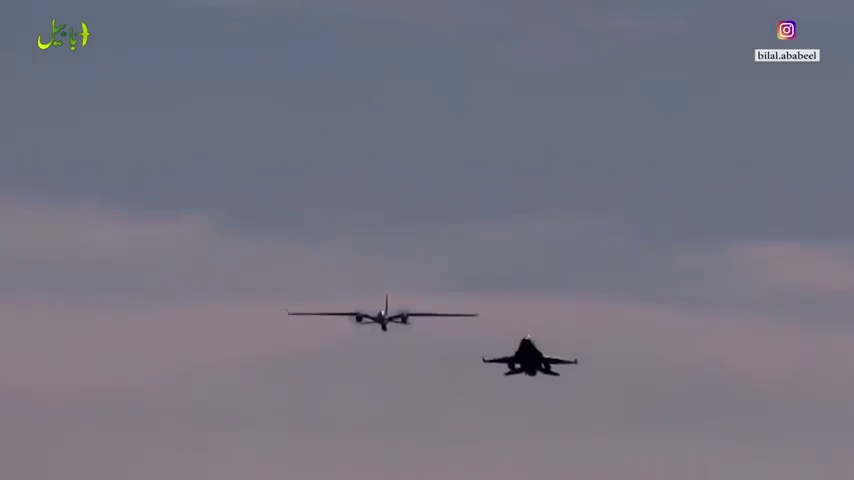military drone: (285, 293, 479, 331), (480, 333, 577, 376)
